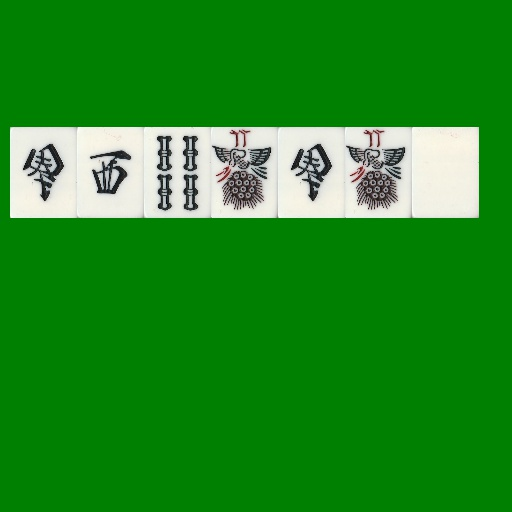1s: (211, 127, 278, 218), (345, 127, 412, 218)
4s: (144, 127, 211, 218)
south: (10, 127, 77, 218), (278, 127, 345, 218)
west: (77, 127, 144, 218)
white: (412, 127, 479, 218)
